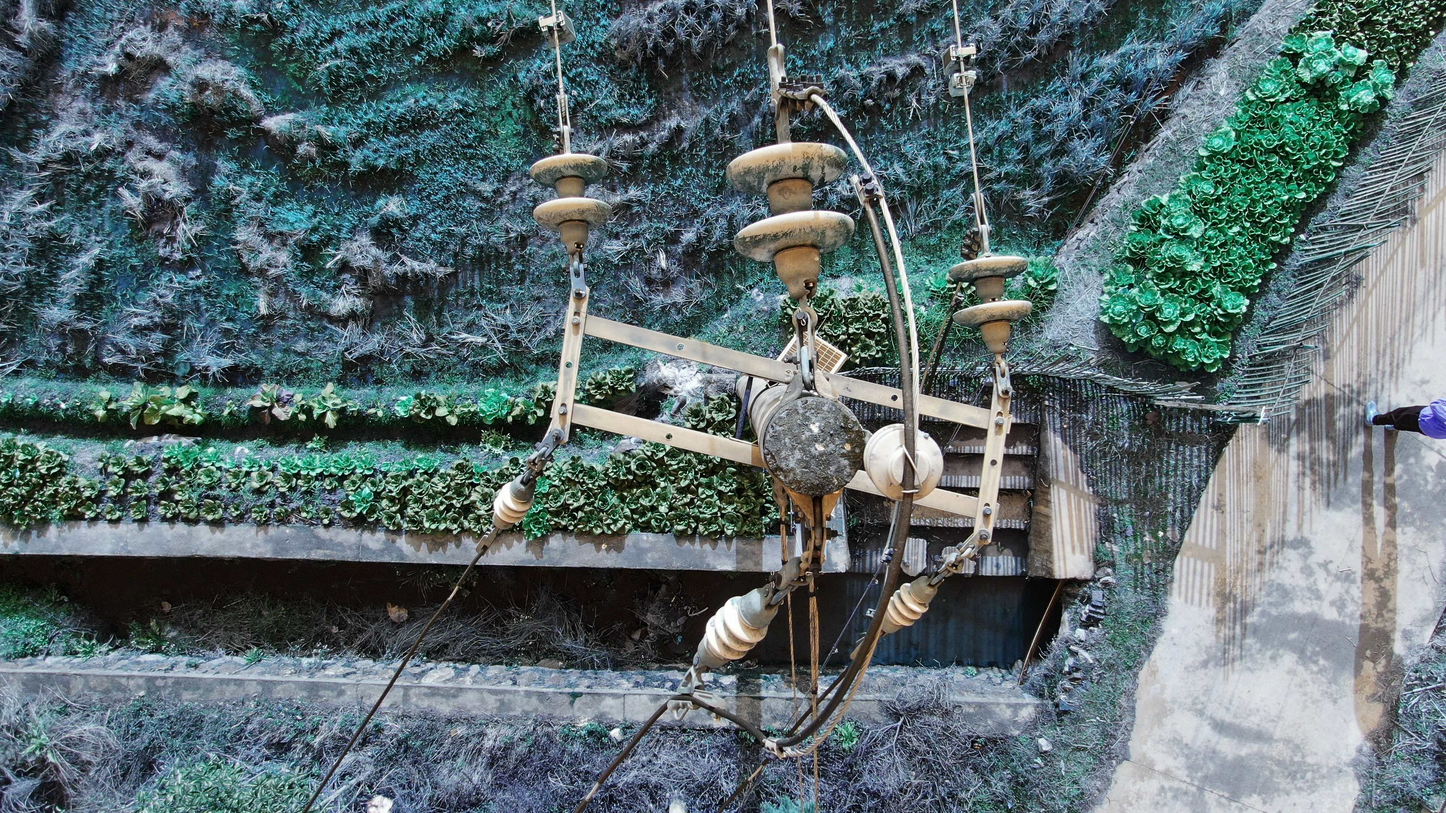severe_soiling_no_discharge_whole: (720, 136, 864, 302), (523, 148, 618, 259), (943, 248, 1036, 358), (692, 582, 782, 671), (877, 575, 940, 637), (487, 469, 539, 531)
